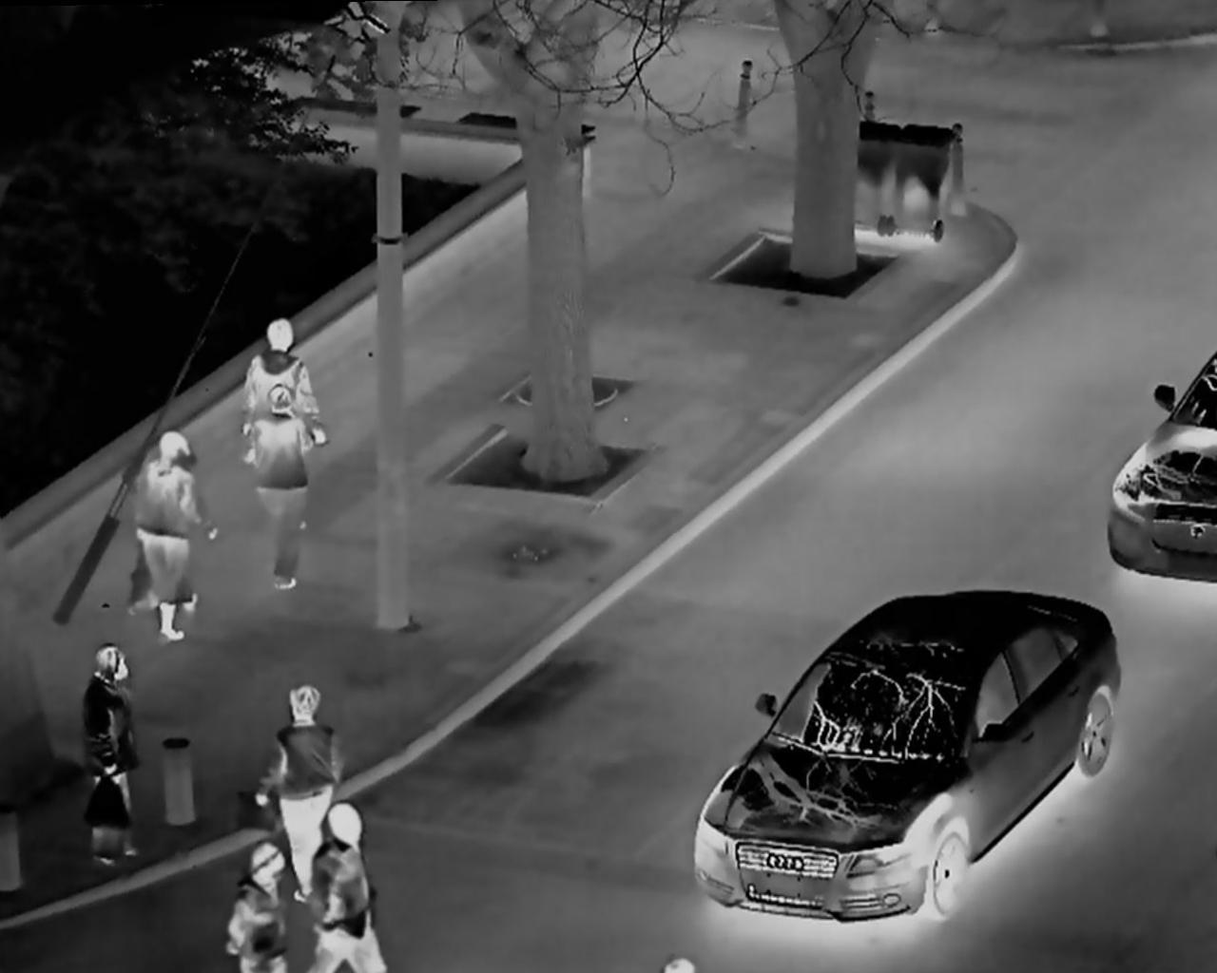person: (73, 637, 162, 875), (124, 425, 215, 648), (252, 674, 329, 888), (308, 793, 398, 968), (241, 384, 315, 596), (238, 300, 329, 467), (227, 835, 290, 973)
